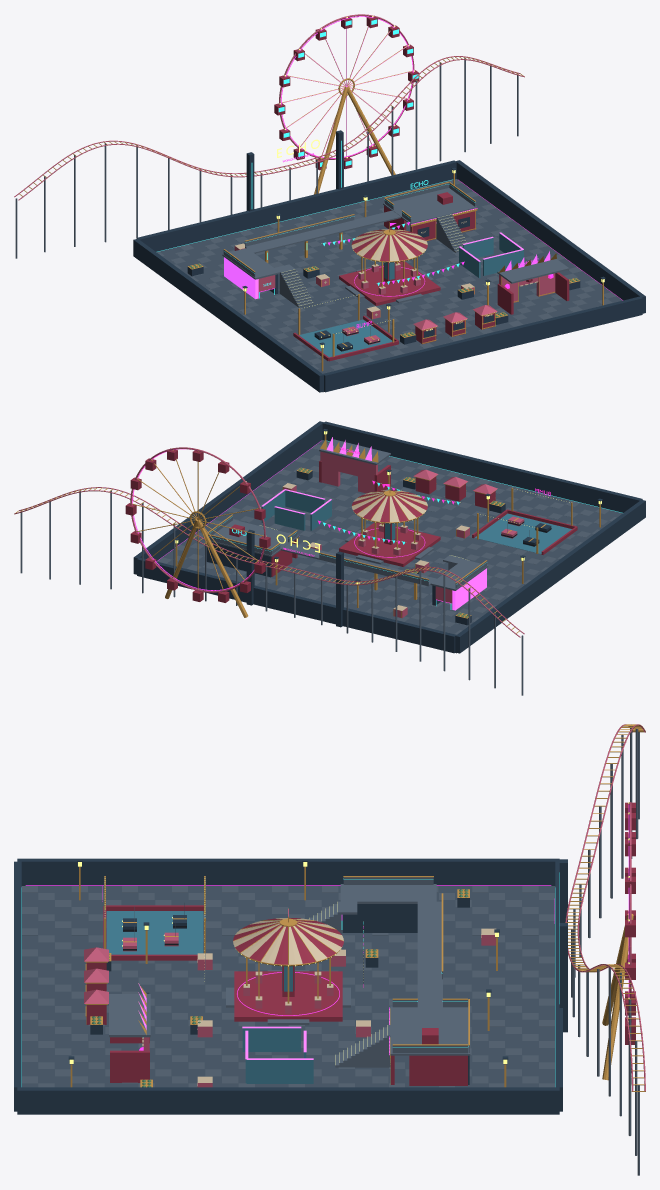
File: neon-carnival.glb
The picture shows the model from 3 angles, top to bottom: view 1: azimuth 30°, elevation 25°; view 2: azimuth 150°, elevation 25°; view 3: azimuth 270°, elevation 25°; orthographic projection. The views are drawn at different scales.
Parts seen in each view (by area): view 1: Decor / Midnight enamel, Decor / Blue paving, Decor / Paving variation, Decor / Brushed brass, Decor / Steel chassis, Decor / Faded velvet rose, Decor / Oxblood carnival paint, carousel-plaza, Decor / Iridescent mirror blue, arcade rooftop, Decor / Warm porcelain, Decor / Electric cyan (+9 smaller); view 2: Decor / Midnight enamel, Decor / Blue paving, Decor / Paving variation, Decor / Brushed brass, Decor / Steel chassis, Decor / Oxblood carnival paint, Decor / Faded velvet rose, carousel-plaza, Decor / Iridescent mirror blue, Decor / Warm porcelain, arcade rooftop, Decor / Neon pink (+12 smaller); view 3: Decor / Blue paving, Decor / Midnight enamel, Decor / Paving variation, Decor / Steel chassis, Decor / Brushed brass, carousel-plaza, Decor / Oxblood carnival paint, Decor / Iridescent mirror blue, Decor / Faded velvet rose, arcade rooftop, Decor / Warm porcelain, tunnel-right (+13 smaller).
Part boxes in pixels (x1,y1,x2,y2): Decor / Midnight enamel: [133, 130, 645, 392]; Decor / Blue paving: [159, 179, 622, 392]; Decor / Paving variation: [156, 179, 616, 371]; Decor / Brushed brass: [19, 26, 579, 346]; Decor / Steel chassis: [15, 58, 604, 347]; Decor / Faded velvet rose: [14, 14, 524, 330]; Decor / Oxblood carnival paint: [274, 16, 532, 282]; carousel-plaza: [339, 261, 440, 305]; Decor / Iridescent mirror blue: [299, 262, 394, 357]; arcade rooftop: [383, 188, 477, 224]; Decor / Warm porcelain: [235, 221, 537, 316]; Decor / Electric cyan: [157, 19, 475, 298]; Decor / Midnight enamel: [133, 421, 645, 653]; Decor / Blue paving: [157, 440, 622, 653]; Decor / Paving variation: [157, 444, 616, 634]; Decor / Brushed brass: [14, 439, 545, 633]; Decor / Steel chassis: [20, 431, 600, 695]; Decor / Oxblood carnival paint: [125, 448, 427, 602]; Decor / Faded velvet rose: [14, 447, 524, 637]; carousel-plaza: [339, 522, 440, 566]; Decor / Iridescent mirror blue: [385, 513, 571, 553]; Decor / Warm porcelain: [283, 483, 469, 610]; arcade rooftop: [204, 519, 298, 556]; Decor / Neon pink: [132, 440, 550, 603]; Decor / Blue paving: [22, 886, 555, 1087]; Decor / Midnight enamel: [14, 858, 567, 1114]; Decor / Paving variation: [21, 886, 554, 1087]; Decor / Steel chassis: [69, 724, 639, 1175]; Decor / Brushed brass: [85, 724, 645, 1091]; carousel-plaza: [234, 971, 342, 1021]; Decor / Oxblood carnival paint: [142, 802, 635, 1044]; Decor / Iridescent mirror blue: [106, 911, 294, 991]; Decor / Faded velvet rose: [84, 724, 645, 1091]; arcade rooftop: [390, 1006, 470, 1055]; Decor / Warm porcelain: [142, 918, 495, 1086]; tunnel-right: [342, 904, 417, 932].
Size of the model in its own units: 102 by 32.02 by 75.75.
